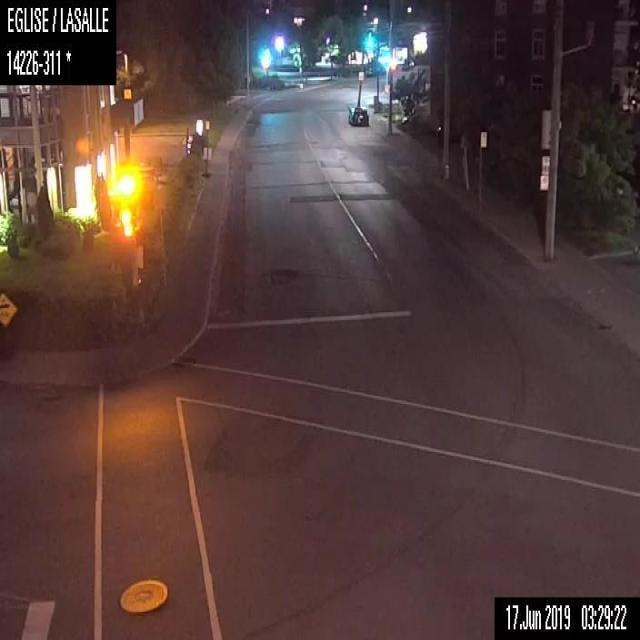vehicle: (346, 102, 368, 126)
